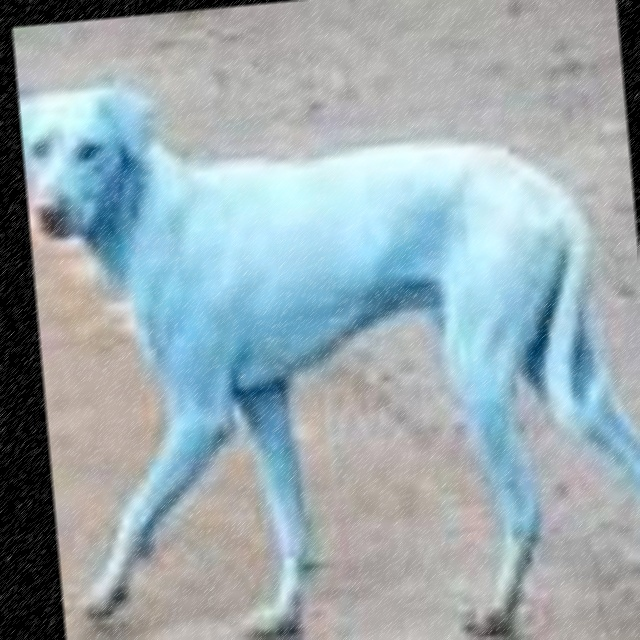dog: (17, 17, 640, 640)
